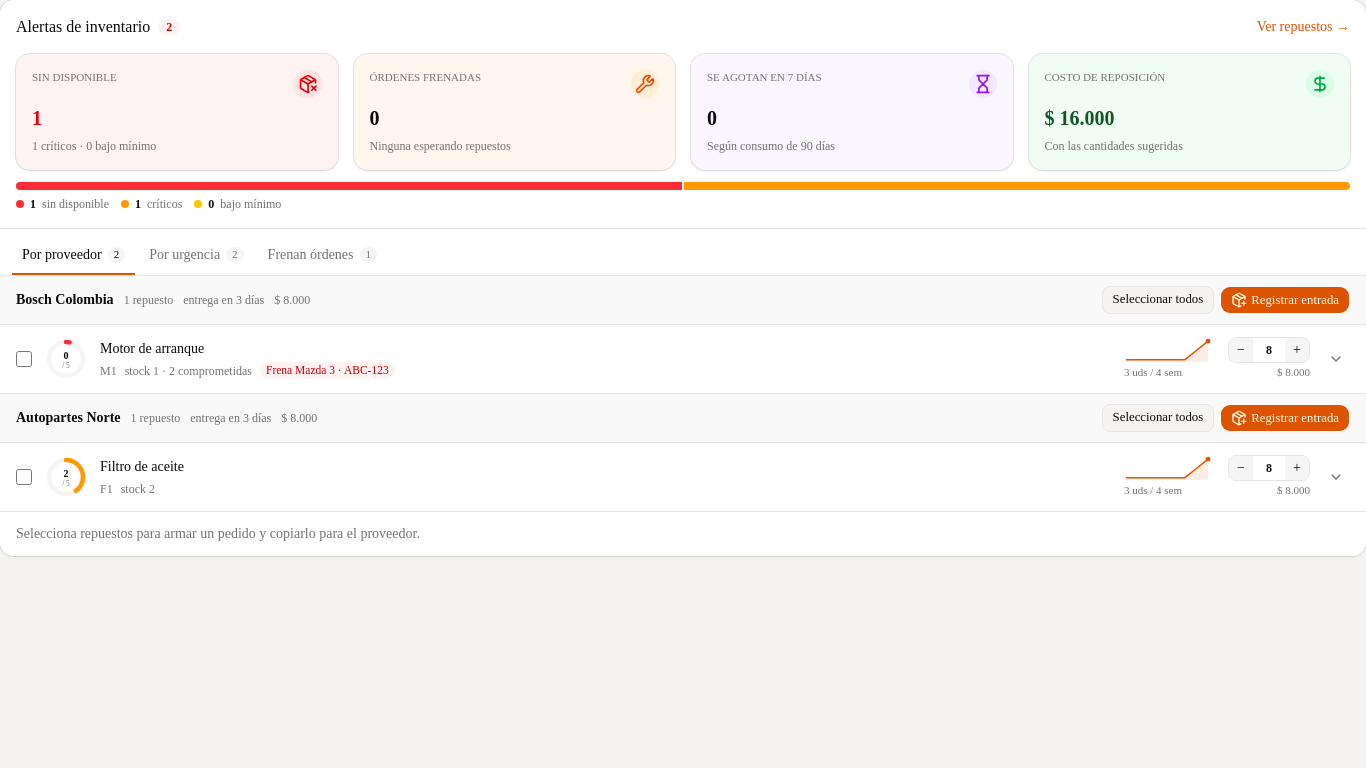
AlertasInventarioCard › filters to rows blocking ordenes on the Frenan órdenes tab
The width and height of the screenshot is (1366, 768).
Click the tab "Frenan órdenes 1": (322,256) x1=258 y1=237 x2=387 y2=275
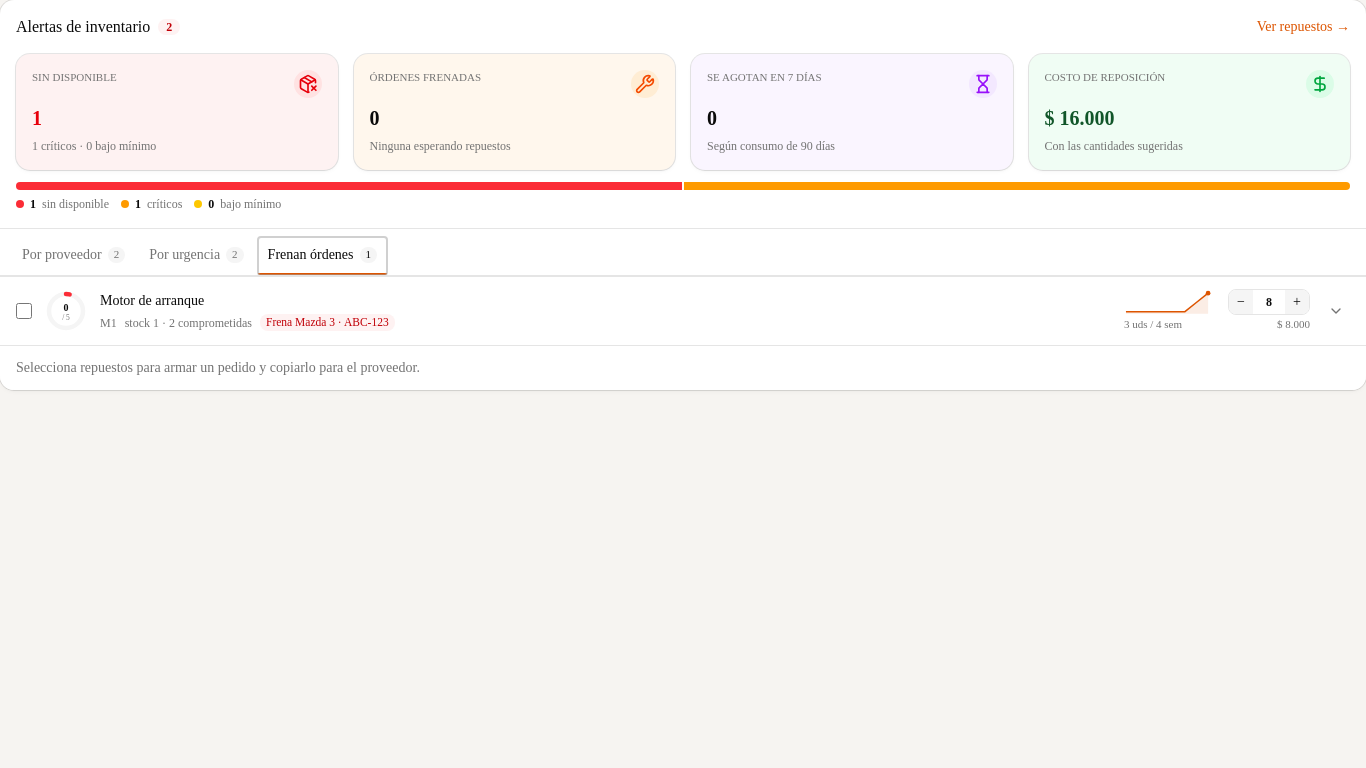
Expected: the text "Motor de arranque" is shown, x1=100 y1=293 x2=204 y2=308
Result: the text "Filtro de aceite" is gone
